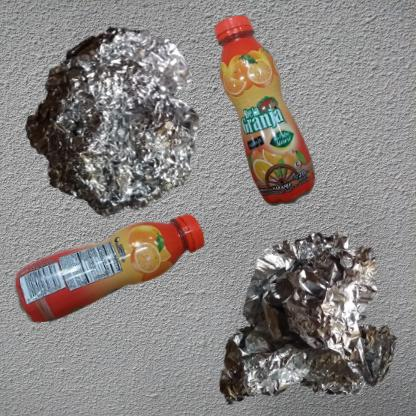aluminio: (10, 10, 222, 239), (213, 213, 416, 416)
botella: (10, 213, 216, 328), (213, 10, 322, 219)
